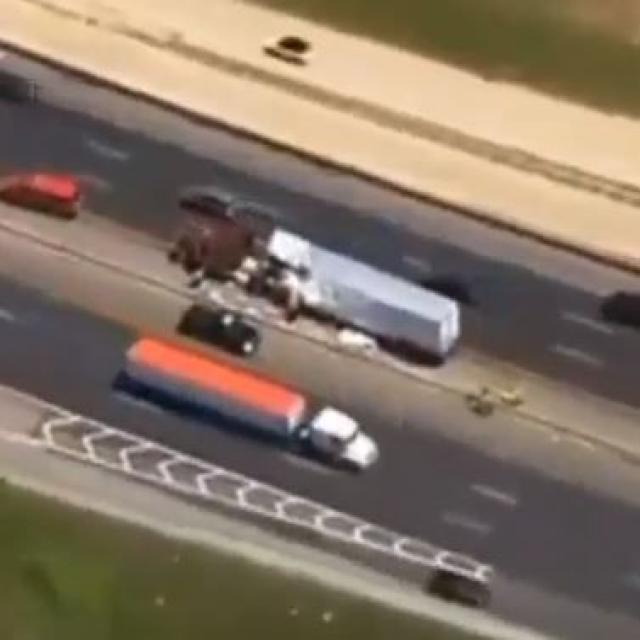traffic_incident: (168, 206, 464, 360)
